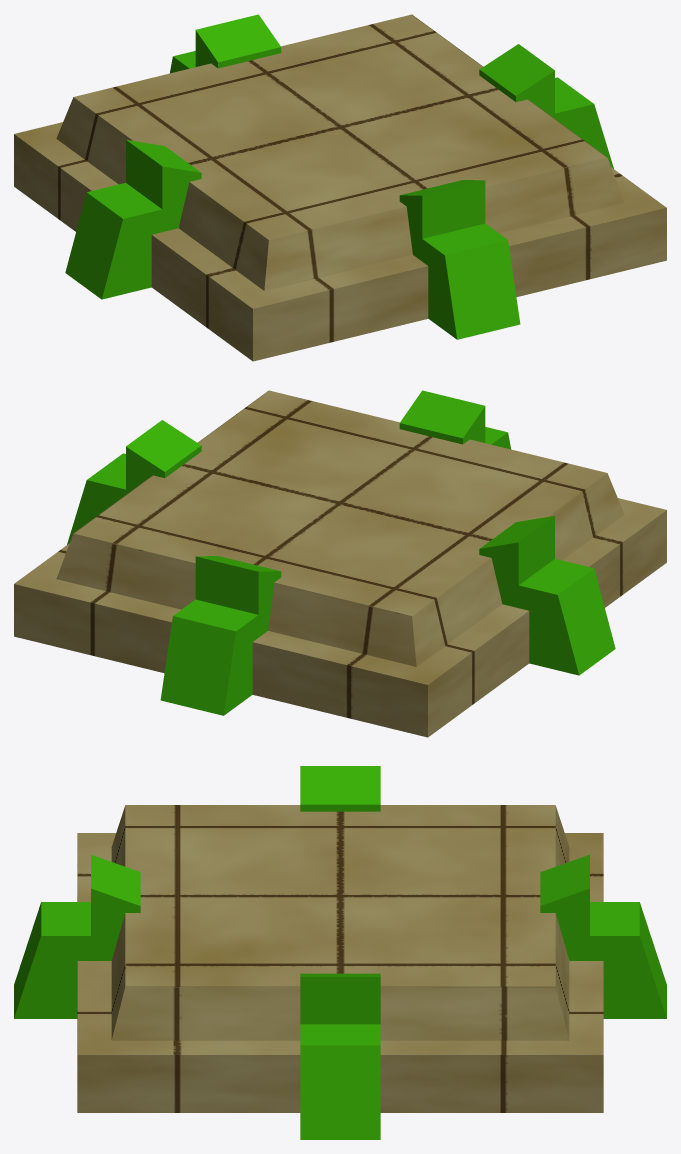
File: obeliscoBase.glb
3 views of the same model, one above another, from view 1: azimuth 30°, elevation 25°; view 2: azimuth 150°, elevation 25°; view 3: azimuth 270°, elevation 25° (orthographic). The views are drawn at different scales.
Visible parts, largest first — view 1: ObeliscoBase; view 2: ObeliscoBase; view 3: ObeliscoBase.
Boxes of the visible parts, x1=… form: ObeliscoBase: x1=14, y1=14, x2=666, y2=361; ObeliscoBase: x1=14, y1=390, x2=666, y2=737; ObeliscoBase: x1=14, y1=766, x2=666, y2=1139.
Size of the model in its own units: 2.48 by 0.547 by 2.48.
2 materials, 1 textured.
